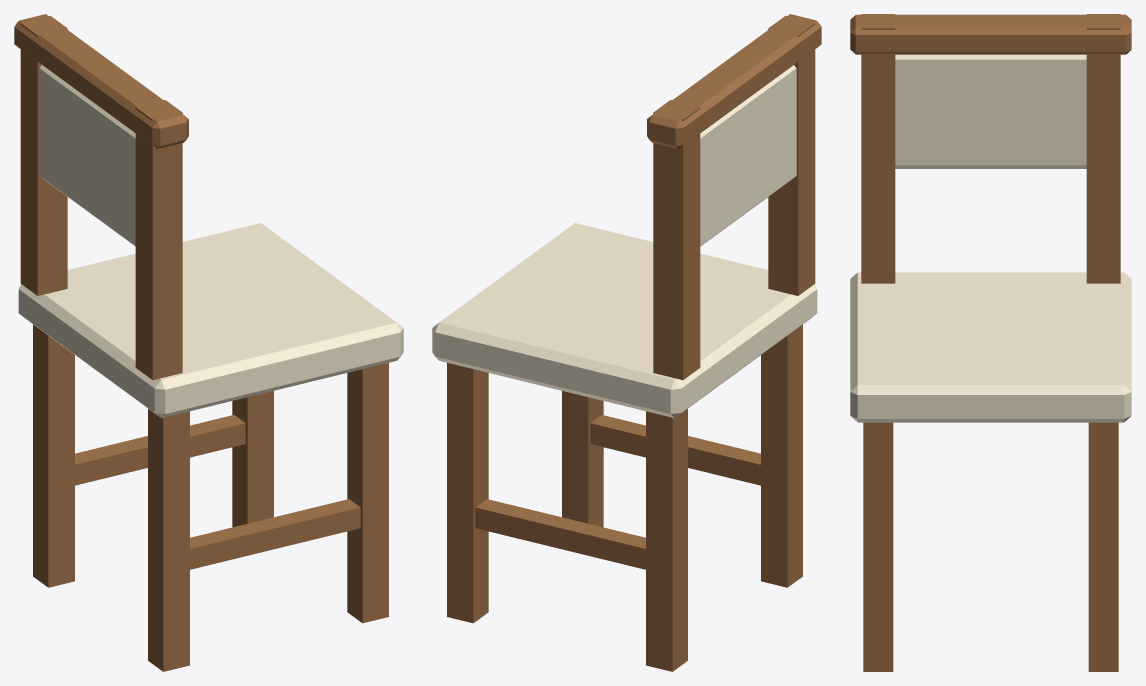
The model's file is chair.glb.
The picture shows the model from 3 angles, left to right: view 1: azimuth 30°, elevation 25°; view 2: azimuth 150°, elevation 25°; view 3: azimuth 270°, elevation 25°; orthographic projection. The views are drawn at different scales.
Parts seen in each view (by area): view 1: chair; view 2: chair; view 3: chair.
Boxes of the visible parts, box(x1,y1,x2,y2) form: chair: box(14, 14, 403, 671); chair: box(432, 14, 821, 671); chair: box(850, 14, 1131, 671).
Size of the model in its own units: 0.152 by 0.32 by 0.15.
